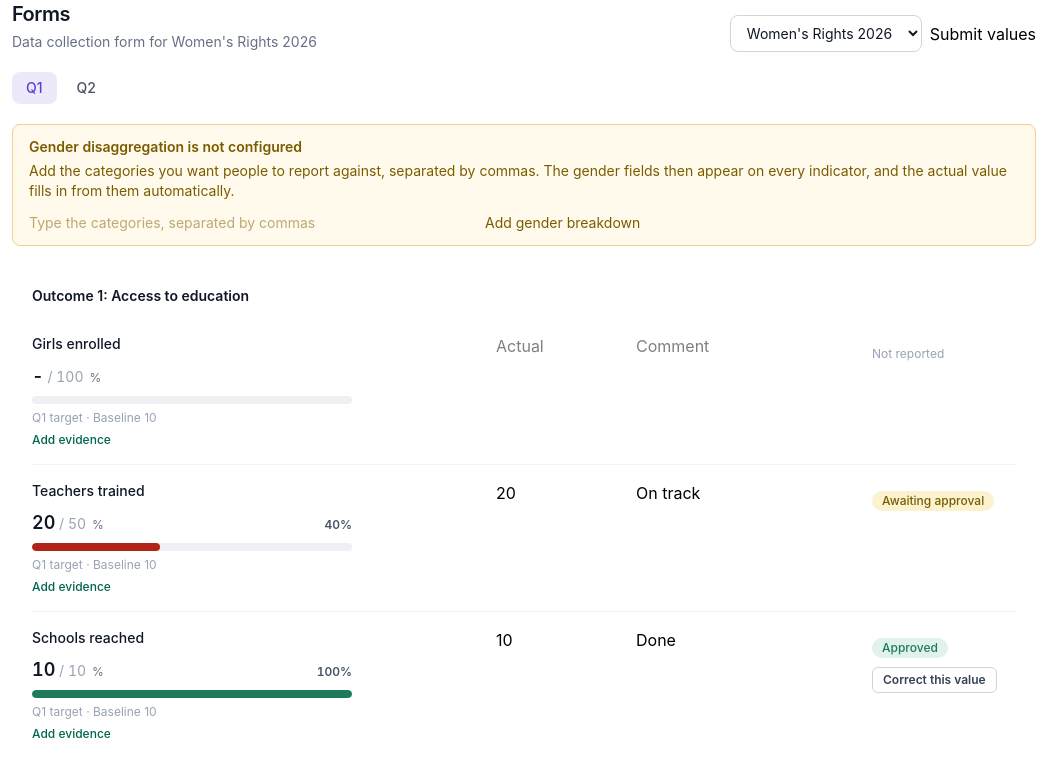
Test: MEForms: submit button › counts entered values and uses the singular for exactly one
This screenshot has width=1048, height=768.
Type "80" into the number field with placeholder "Actual".
click(560, 346); type("80")  # box [496,334,624,358]
(page scrolled)
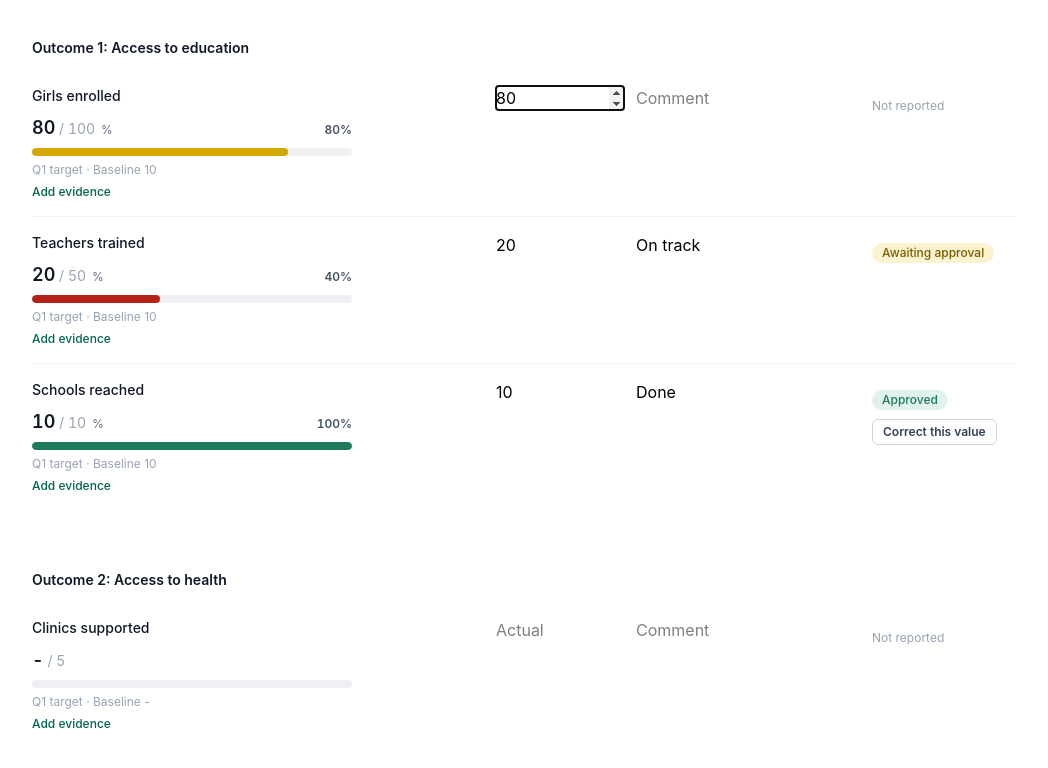
Type "4" into the number field with placeholder "Actual".
click(560, 630); type("4")  # box [496,618,624,642]
(page scrolled)
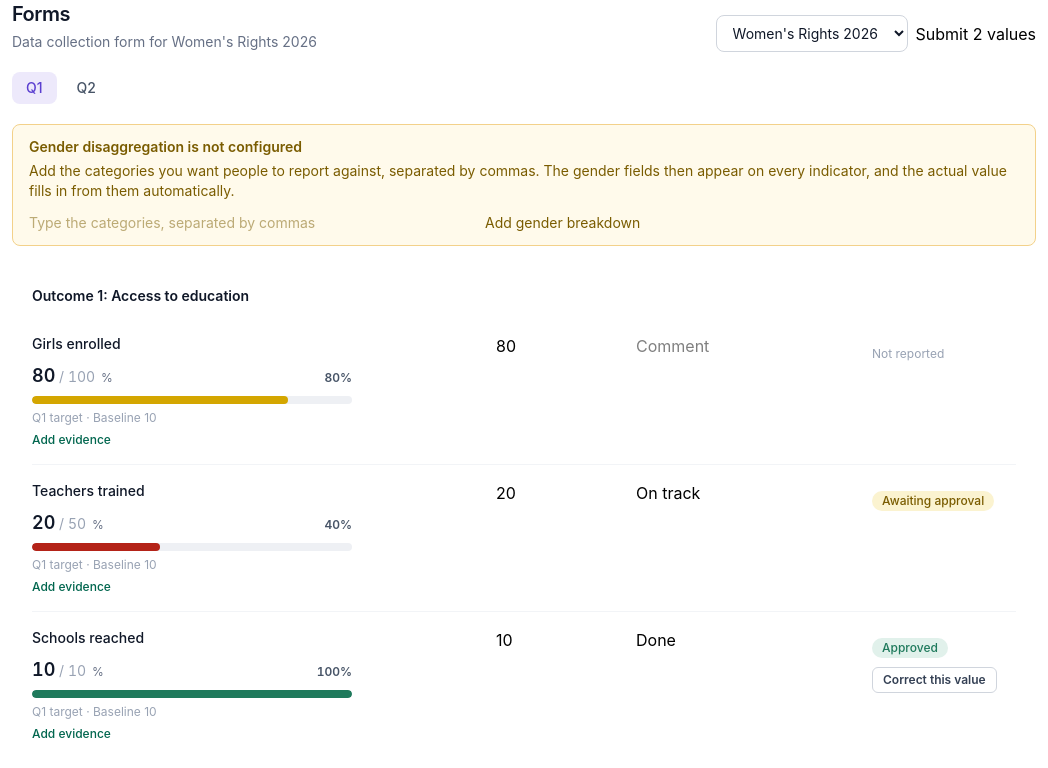
Expected: the button "Submit 2 values" is shown, [916,22,1036,46]
